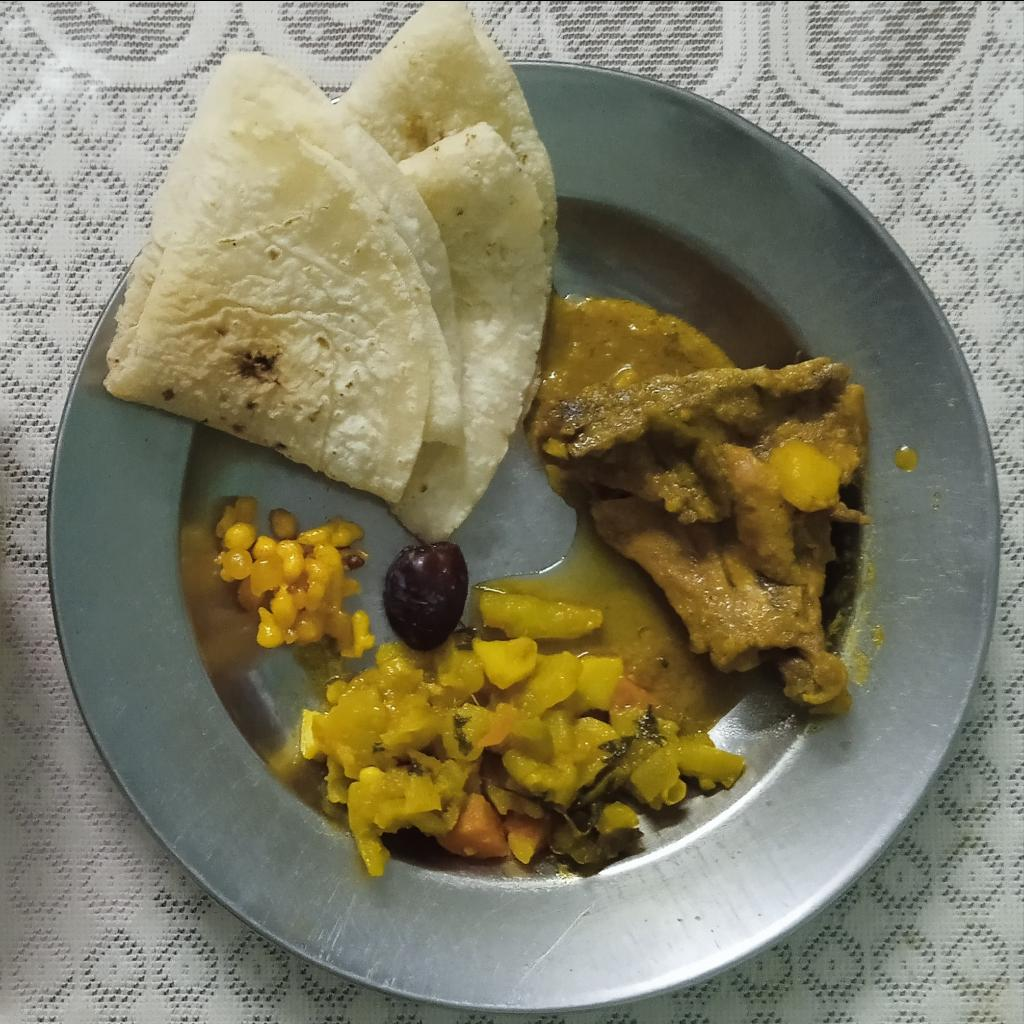burinda: (211, 498, 374, 657)
chicken: (526, 356, 872, 719)
dates: (387, 540, 469, 649)
ruti: (103, 2, 556, 543)
vegetable: (300, 593, 745, 883)
